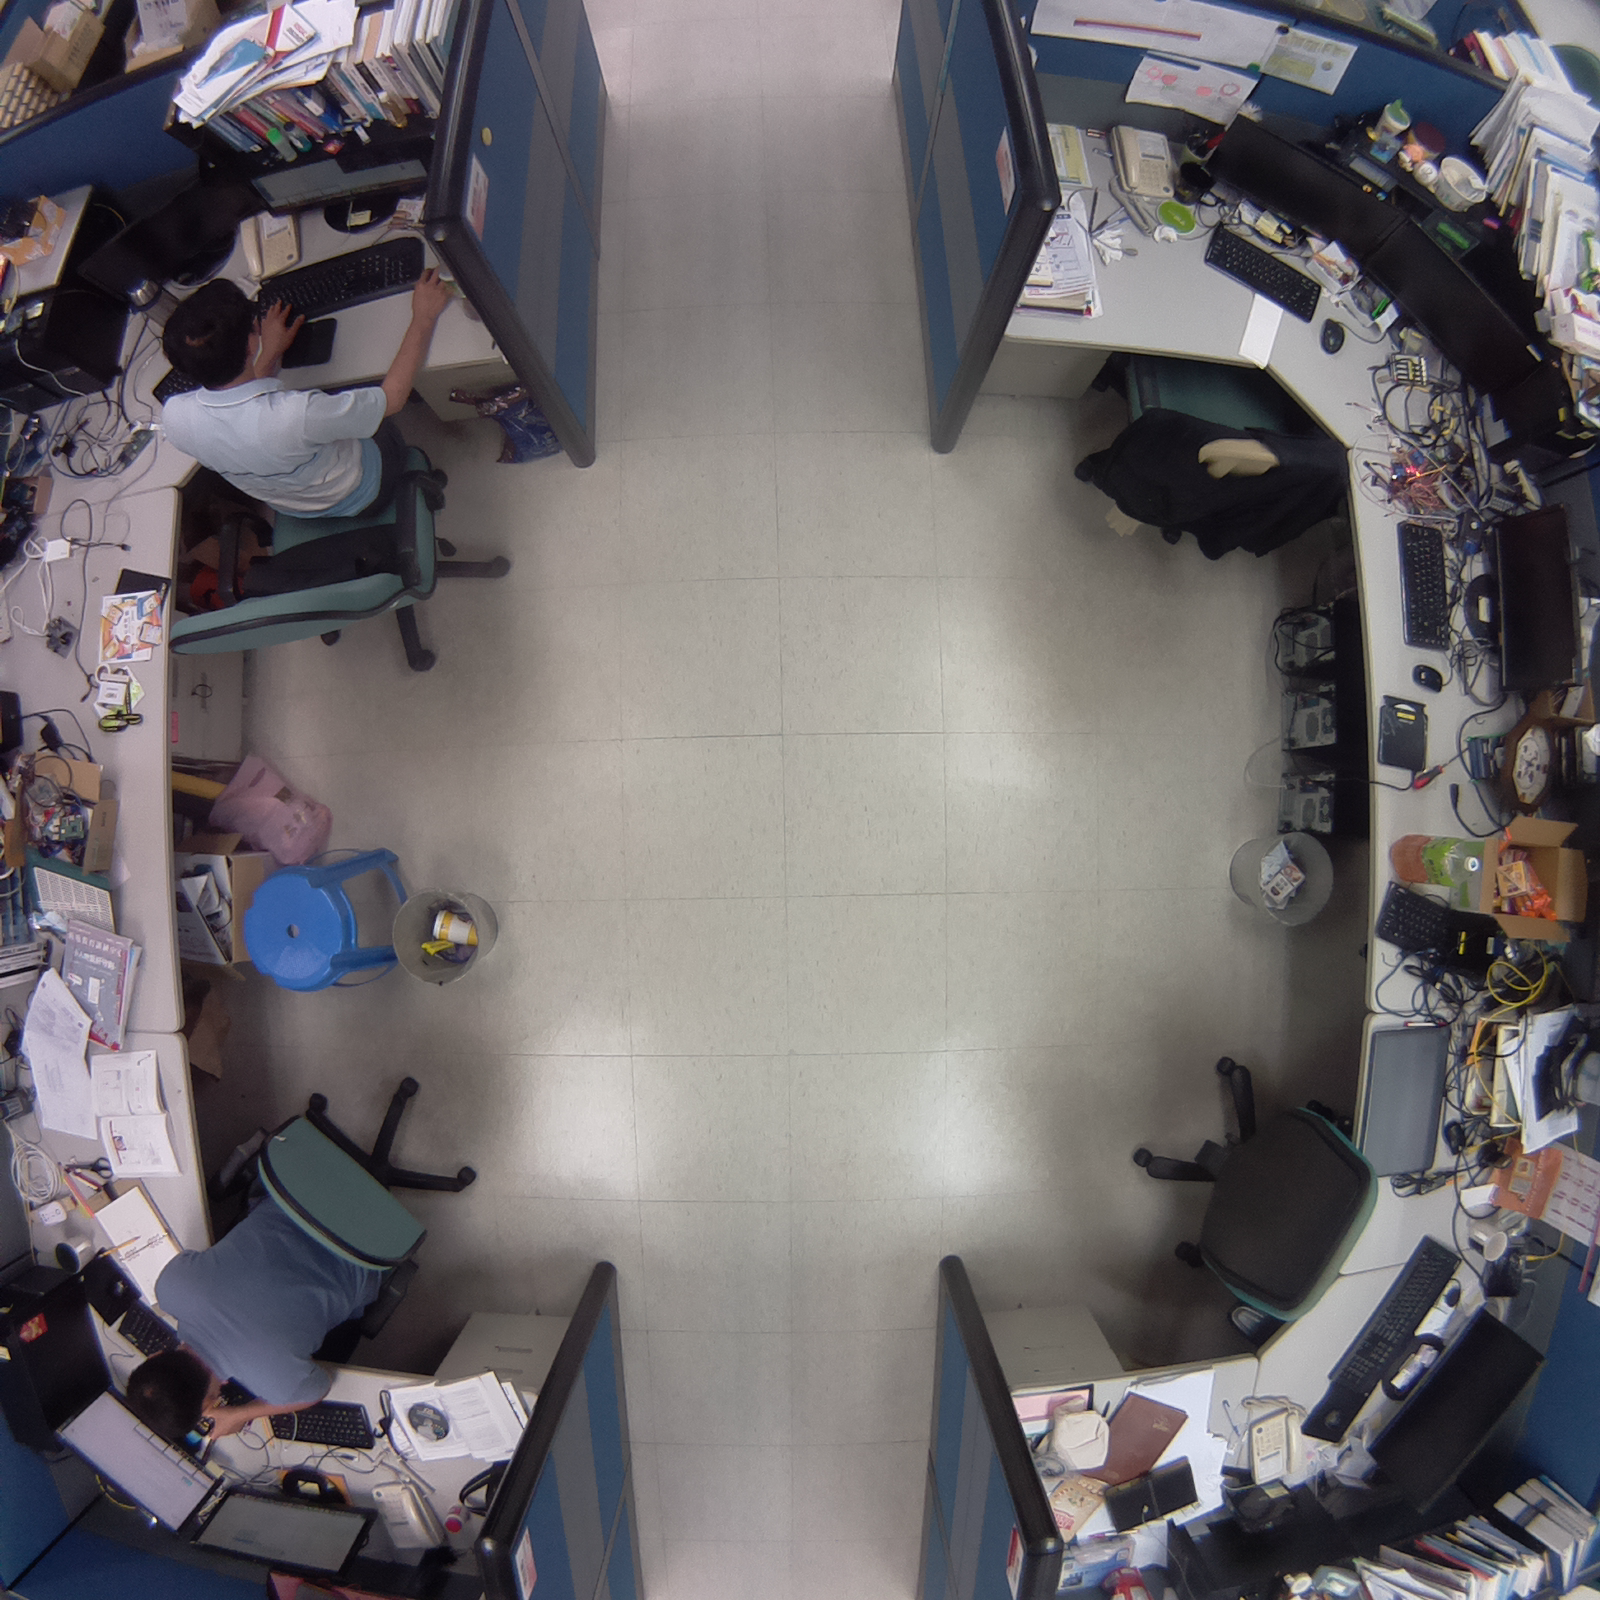chair: (1099, 1027, 1388, 1352), (1058, 334, 1347, 581)
head: (159, 269, 270, 383), (119, 1334, 214, 1440)
sitting: (151, 257, 519, 686), (104, 1060, 504, 1443)
